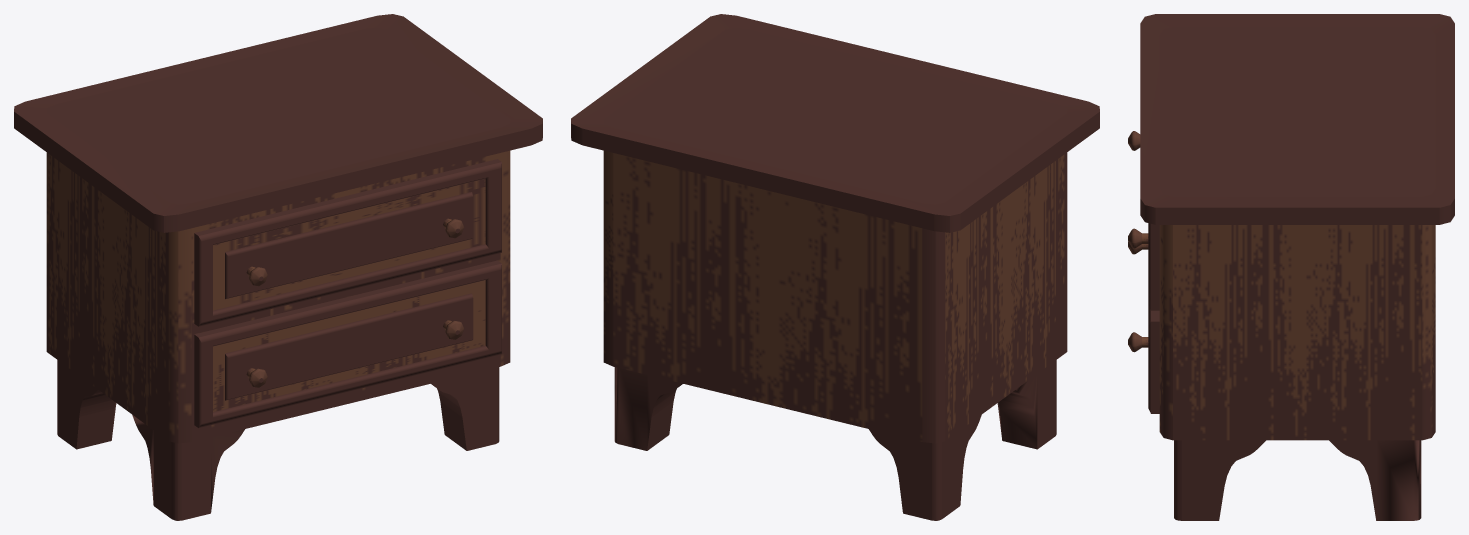
File: szafka.fbx
The picture shows the model from 3 angles, left to right: view 1: azimuth 30°, elevation 25°; view 2: azimuth 150°, elevation 25°; view 3: azimuth 270°, elevation 25°; orthographic projection.
Parts seen in each view (by area): view 1: Cube.009, Plane.028, Plane.031, Plane.026; view 2: Cube.009, Plane.026; view 3: Cube.009, Plane.026, Plane.028, Plane.031.
Boxes of the visible parts, box(x1,y1,x2,y2) form: Cube.009: box(14, 14, 542, 443); Plane.028: box(194, 260, 501, 427); Plane.031: box(194, 159, 501, 326); Plane.026: box(57, 360, 499, 520); Cube.009: box(571, 14, 1099, 443); Plane.026: box(614, 360, 1056, 520); Cube.009: box(1140, 14, 1454, 440); Plane.026: box(1174, 440, 1421, 520); Plane.028: box(1148, 305, 1159, 413); Plane.031: box(1148, 223, 1159, 310).
Size of the model in its own units: 228 by 181 by 163.
